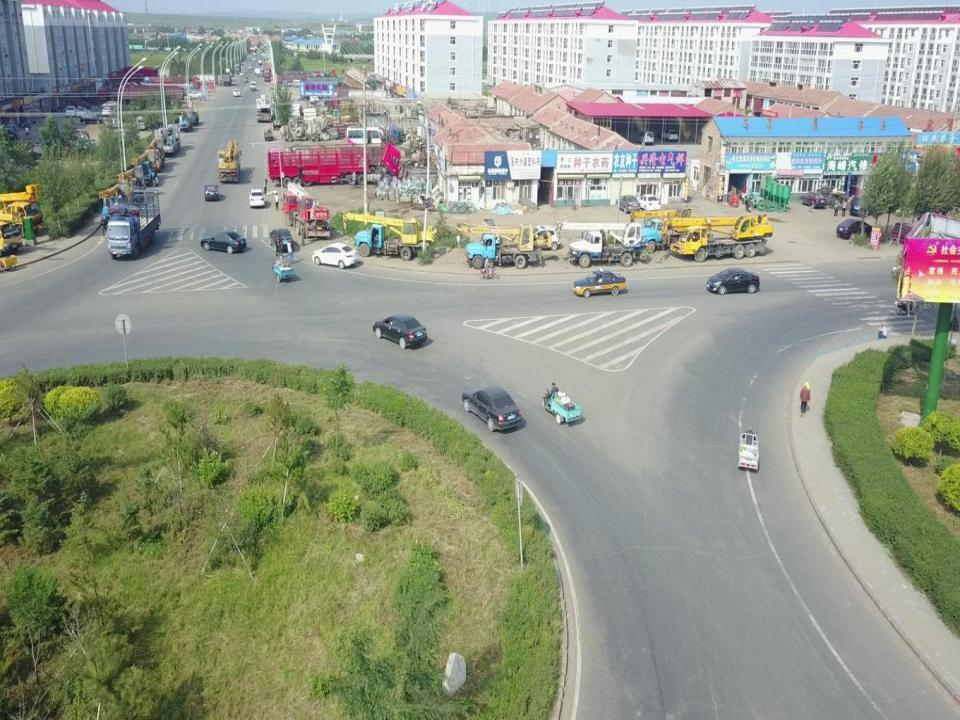bus: (346, 126, 384, 152)
car: (460, 385, 522, 433), (371, 312, 428, 348), (572, 266, 627, 298), (704, 266, 760, 294), (311, 242, 359, 268), (516, 225, 561, 250), (200, 230, 246, 253), (836, 217, 874, 240), (849, 195, 882, 217), (480, 218, 501, 246), (269, 228, 294, 251), (799, 191, 827, 209), (615, 194, 640, 214), (636, 194, 661, 213), (247, 188, 265, 208), (204, 182, 220, 202), (79, 114, 102, 124), (103, 118, 121, 128), (100, 100, 120, 109), (186, 90, 202, 99), (75, 106, 87, 117), (65, 105, 75, 117), (101, 106, 111, 116), (232, 88, 240, 96), (243, 75, 248, 82), (240, 71, 244, 76)
truck: (268, 140, 401, 188), (268, 146, 388, 184), (274, 68, 338, 86), (222, 72, 232, 86), (263, 69, 271, 82), (254, 68, 265, 77), (234, 62, 241, 74), (282, 80, 294, 87), (249, 80, 257, 89)
van: (891, 222, 926, 250), (136, 115, 151, 130), (293, 79, 301, 87), (248, 64, 253, 69)
